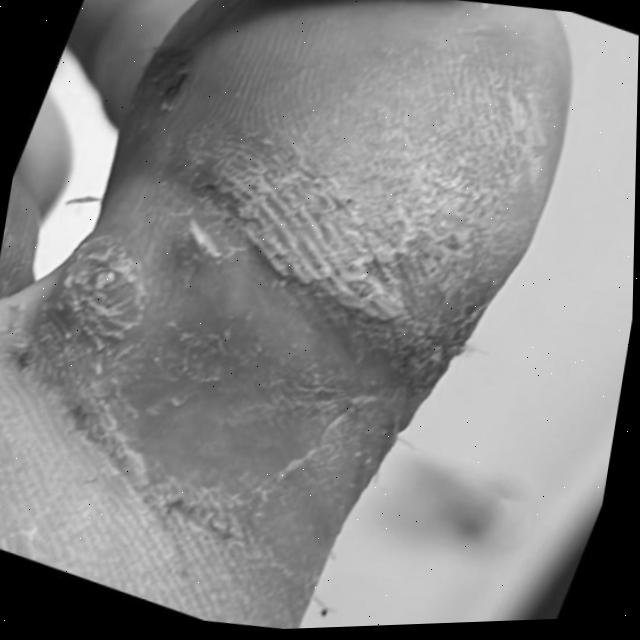Eczema: (55, 91, 491, 502)
